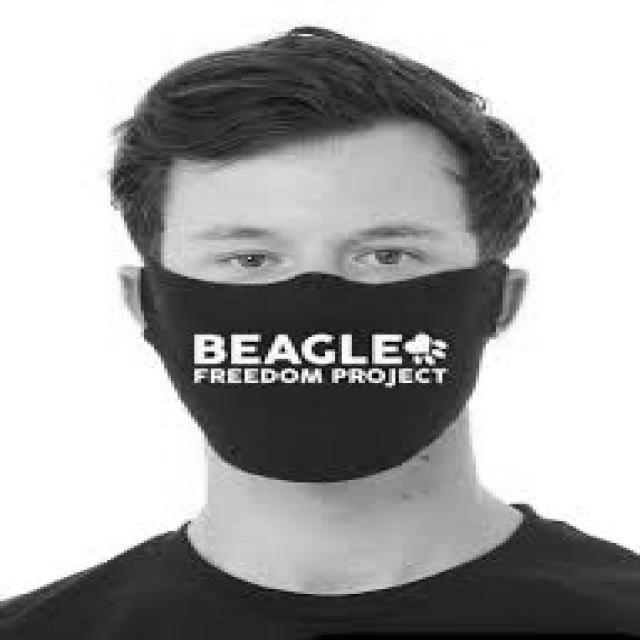fake: (115, 238, 511, 486)
real: (150, 147, 479, 495)
